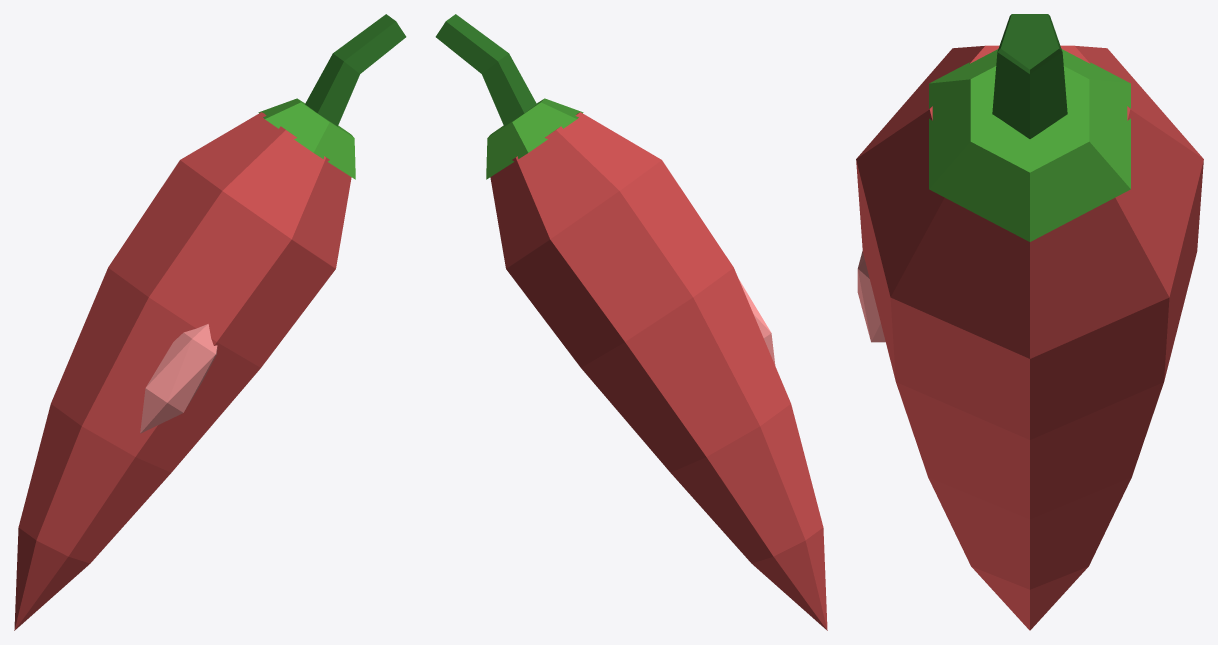
Rendered from pepper.glb.
The picture shows the model from 3 angles, left to right: view 1: azimuth 30°, elevation 25°; view 2: azimuth 150°, elevation 25°; view 3: azimuth 270°, elevation 25°; orthographic projection. The views are drawn at different scales.
Parts seen in each view (by area): view 1: pepper; view 2: pepper; view 3: pepper.
Boxes of the visible parts, x1,y1,x2,y2 form: pepper: (14, 14, 406, 630); pepper: (435, 14, 827, 630); pepper: (856, 14, 1203, 630).
Bounding box in the file's own units: 0.239 × 0.3065 × 0.1014.
